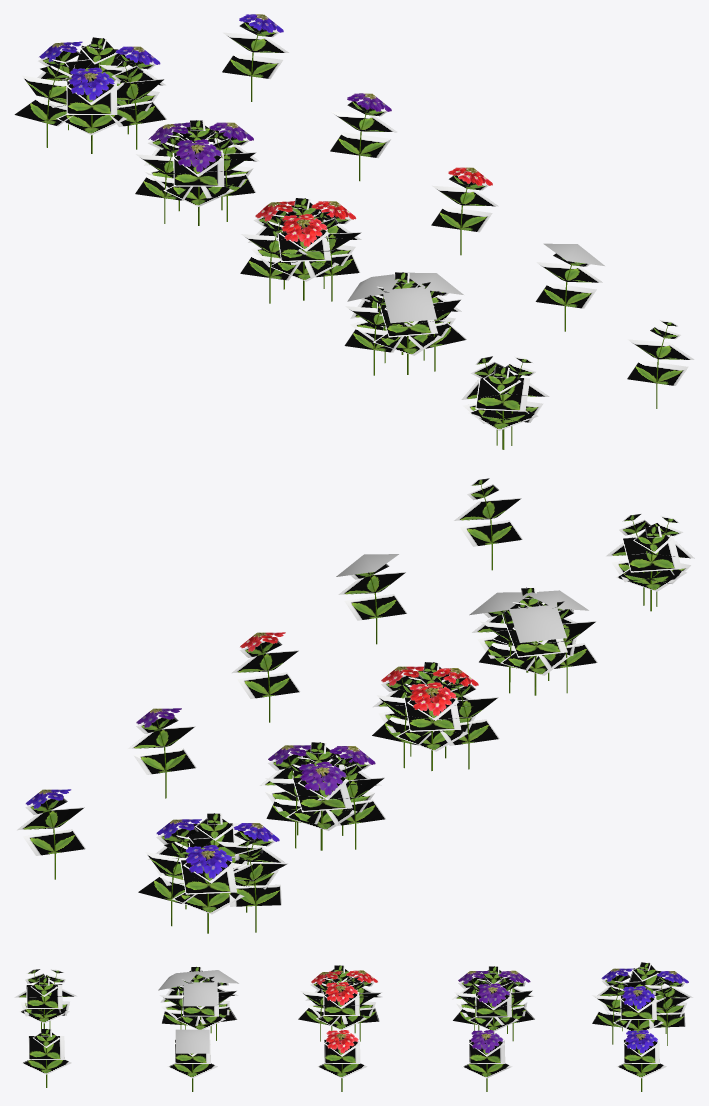
File: FlowerCycle.fbx
3 views of the same model, one above another, from view 1: azimuth 30°, elevation 25°; view 2: azimuth 150°, elevation 25°; view 3: azimuth 270°, elevation 25° (orthographic). The views are drawn at different scales.
Visible parts, largest first — view 1: Object_2, Object_7, Object_5, Object_6, Object_3, Object_4; view 2: Object_2, Object_7, Object_5, Object_3, Object_6, Object_4; view 3: Object_2, Object_7, Object_3, Object_4, Object_6, Object_5.
Boxes of the visible parts, x1,y1,x2,y2 form: Object_2: (14,22,694,430); Object_7: (347,243,604,323); Object_5: (46,30,668,449); Object_6: (148,93,391,172); Object_3: (39,14,283,100); Object_4: (255,167,492,246); Object_2: (17,478,694,914); Object_7: (336,554,588,642); Object_5: (45,483,669,933); Object_3: (25,789,279,878); Object_6: (136,708,375,795); Object_4: (240,632,478,715); Object_2: (14,962,692,1078); Object_7: (158,970,238,1053); Object_3: (601,968,688,1053); Object_4: (311,970,377,1053); Object_6: (458,970,530,1053); Object_5: (34,967,671,1091).
Bounding box in the file's own units: 289 × 90.35 × 912.
